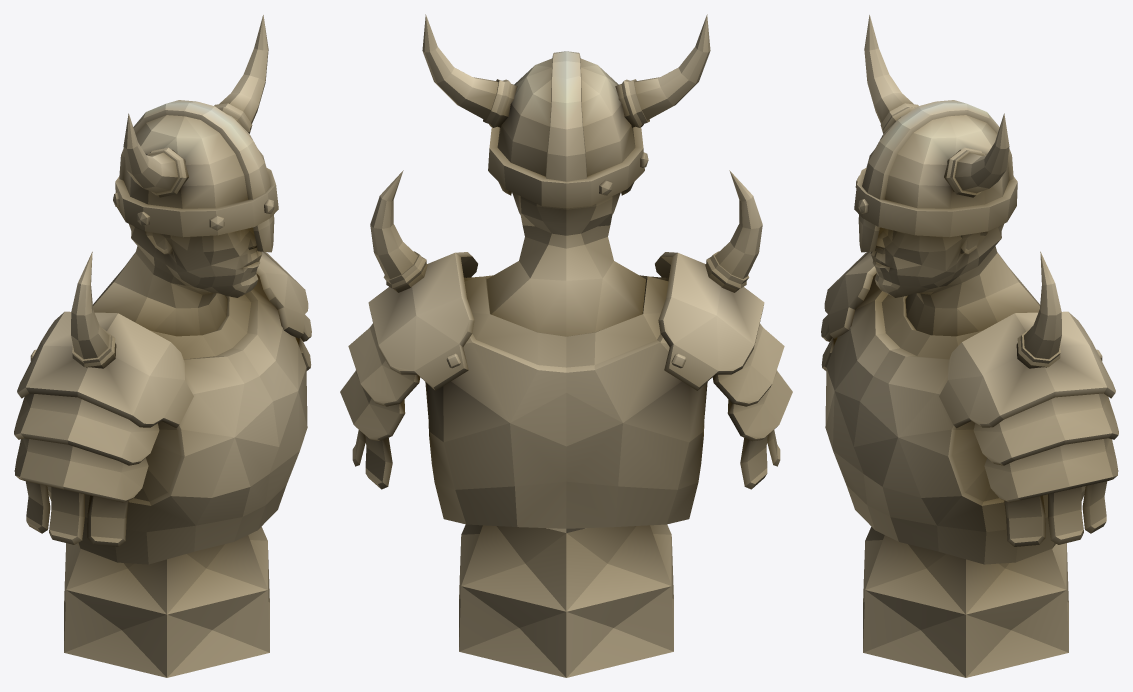
The model's file is armyTile_Viking.fbx.
3 views of the same model, side by side, from view 1: azimuth 30°, elevation 25°; view 2: azimuth 150°, elevation 25°; view 3: azimuth 270°, elevation 25° (orthographic). The views are drawn at different scales.
Visible parts, largest first — view 1: armyTile_Viking; view 2: armyTile_Viking; view 3: armyTile_Viking.
Boxes of the visible parts, x1=… form: armyTile_Viking: x1=14, y1=15, x2=311, y2=677; armyTile_Viking: x1=340, y1=14, x2=792, y2=677; armyTile_Viking: x1=821, y1=15, x2=1118, y2=677.
Size of the model in its own units: 1.66 by 2.63 by 1.24.
